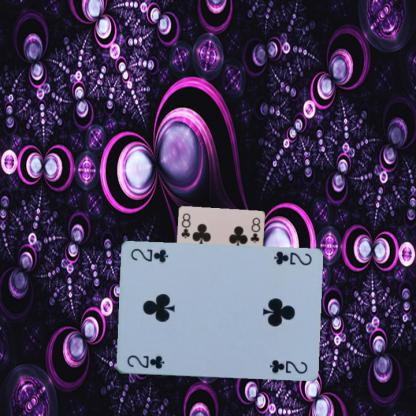2c: (271, 249, 313, 267), (124, 353, 165, 370)
8c: (178, 211, 192, 240)
